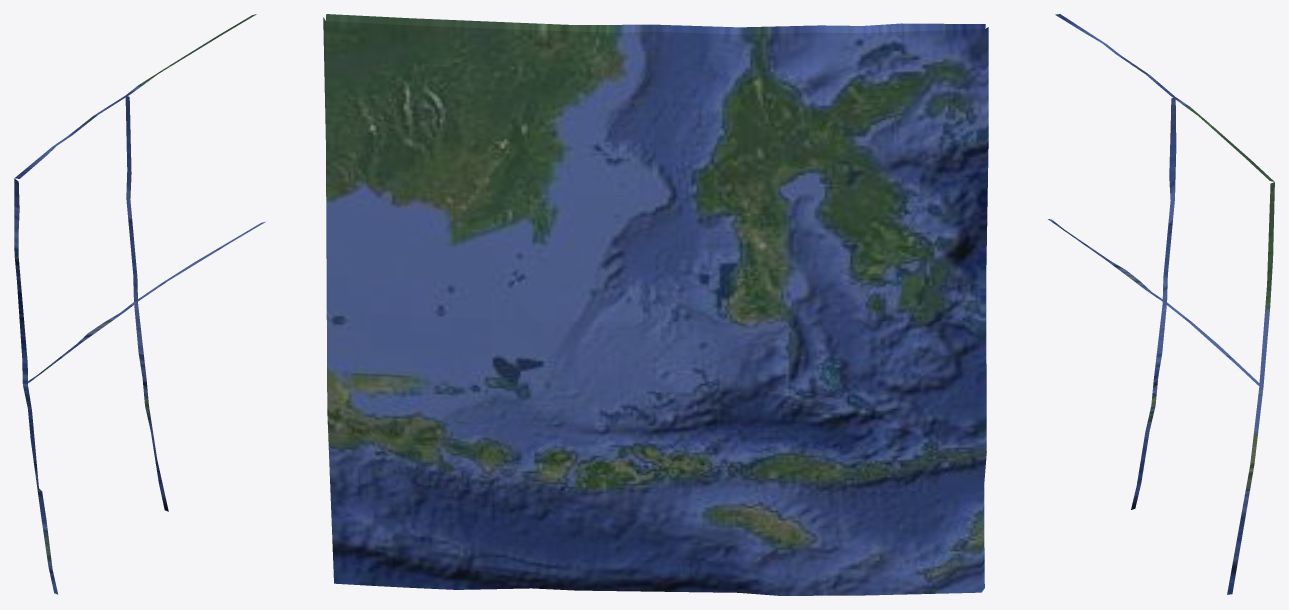
The picture shows the model from 3 angles, left to right: view 1: azimuth 30°, elevation 25°; view 2: azimuth 150°, elevation 25°; view 3: azimuth 270°, elevation 25°; orthographic projection. The views are drawn at different scales.
Size of the model in its own units: 1163616 by 1252820 by 717212.
Materials: 1 (1 with a texture image).
